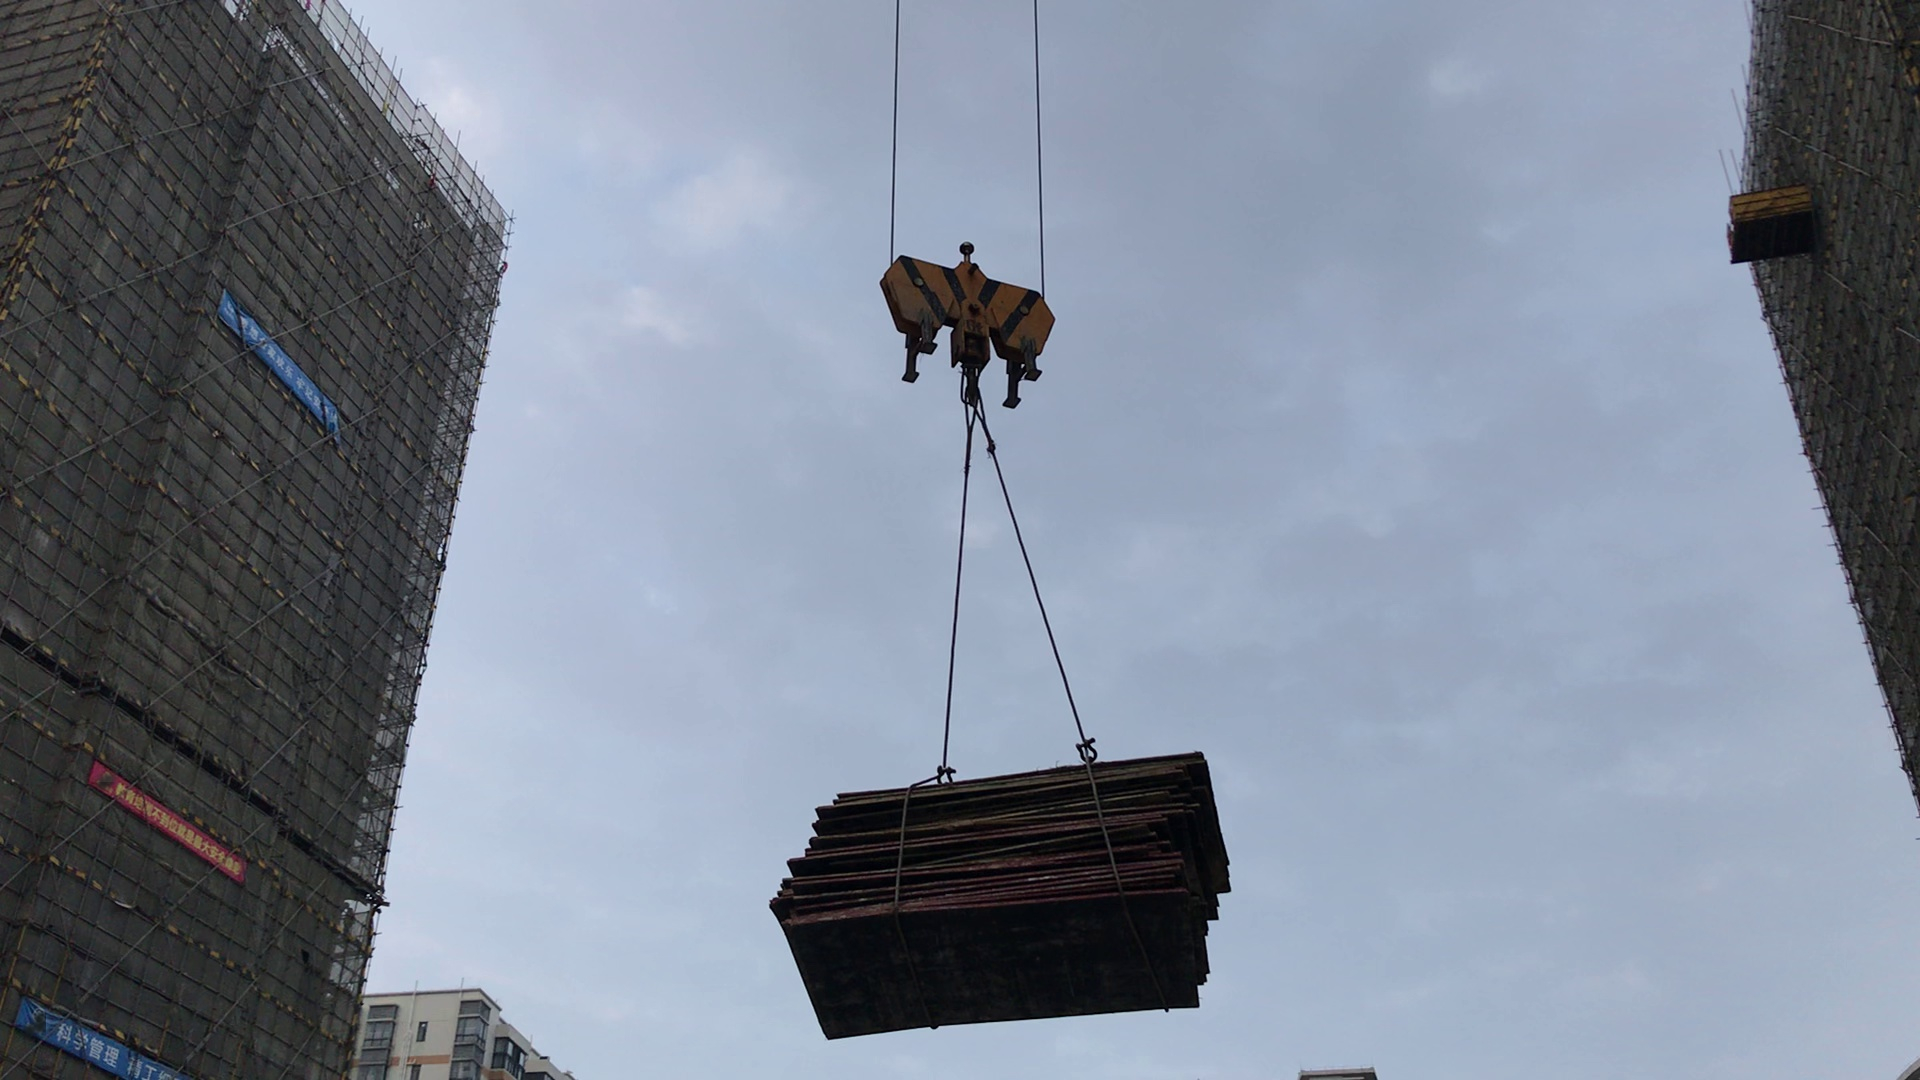board: (769, 746, 1232, 1046)
hook: (866, 253, 1063, 410)
slogan: (87, 749, 248, 887), (214, 287, 343, 442), (13, 990, 181, 1080)
